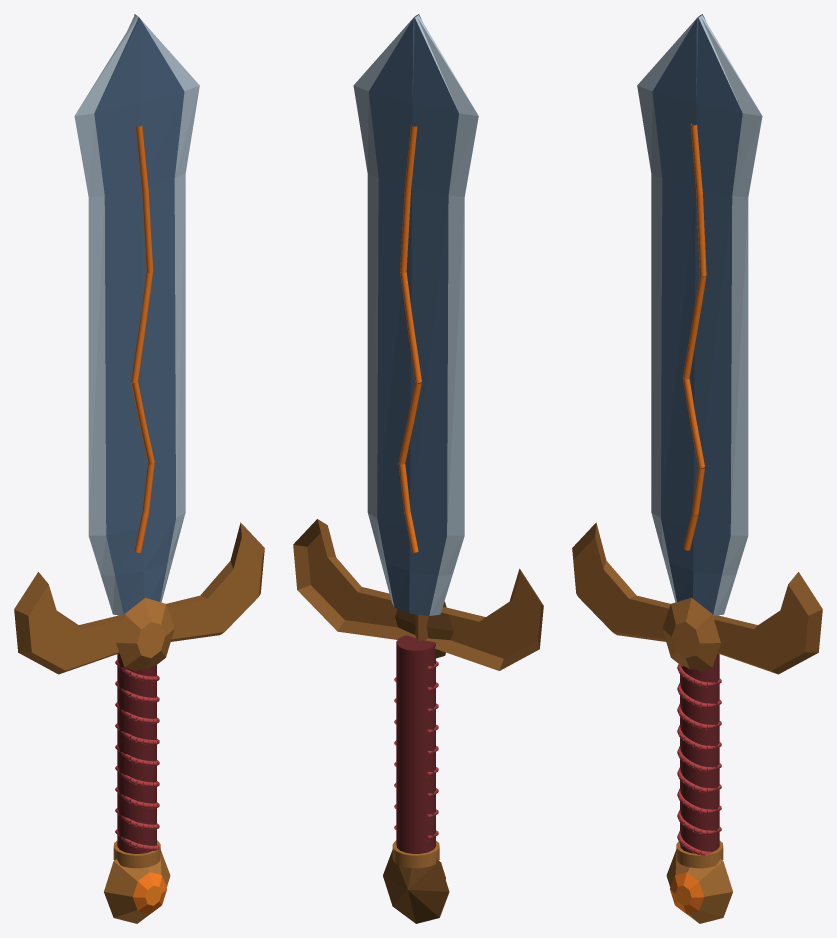
Rendered from Ember.obj.
The picture shows the model from 3 angles, left to right: view 1: azimuth 30°, elevation 25°; view 2: azimuth 150°, elevation 25°; view 3: azimuth 330°, elevation 25°; orthographic projection.
Visible parts, largest first — view 1: Ember; view 2: Ember; view 3: Ember.
Boxes of the visible parts, x1=… form: Ember: x1=14, y1=14, x2=264, y2=923; Ember: x1=293, y1=14, x2=543, y2=923; Ember: x1=572, y1=14, x2=822, y2=923.
Bounding box in the file's own units: 12.4 × 42.9 × 2.42.
